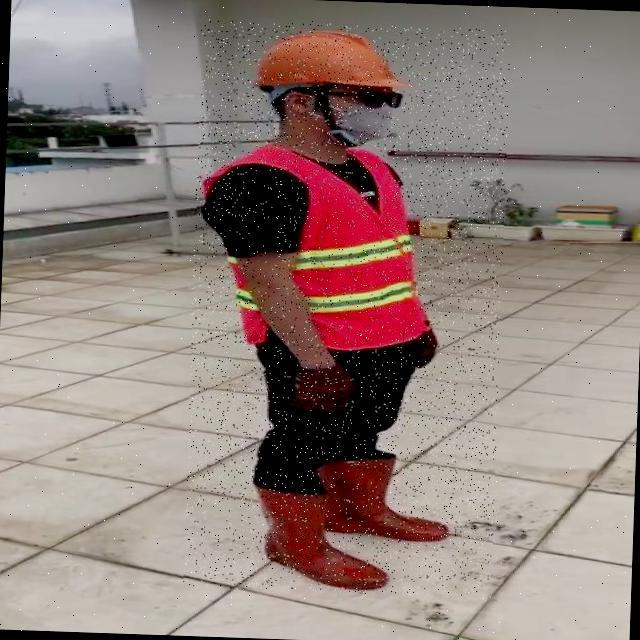boots: (246, 484, 390, 592), (314, 456, 452, 544)
helmet: (249, 28, 409, 96)
vest: (190, 138, 426, 352)
